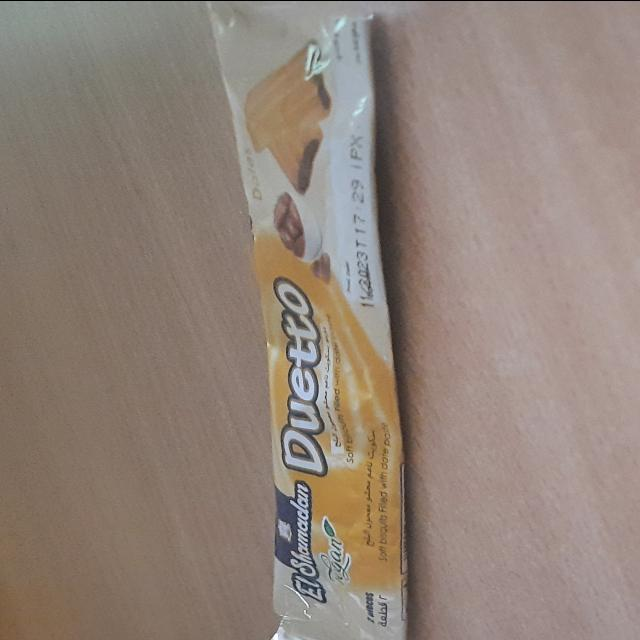plastic: (205, 0, 413, 640)
